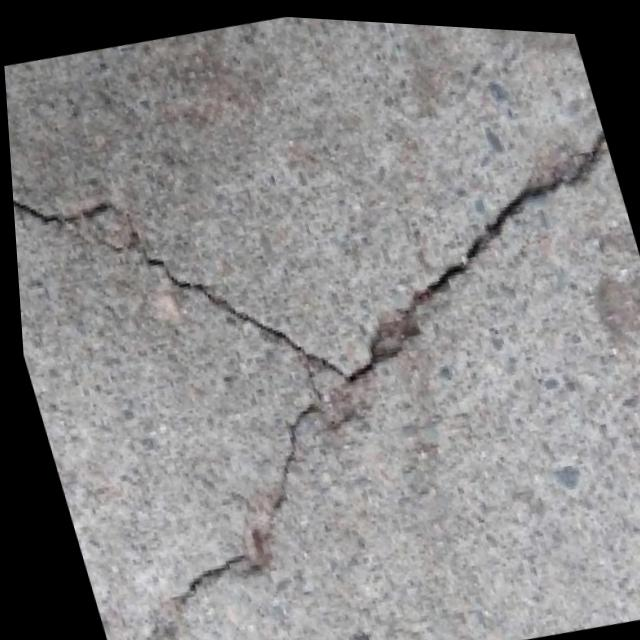Crack: (2, 30, 640, 640)
